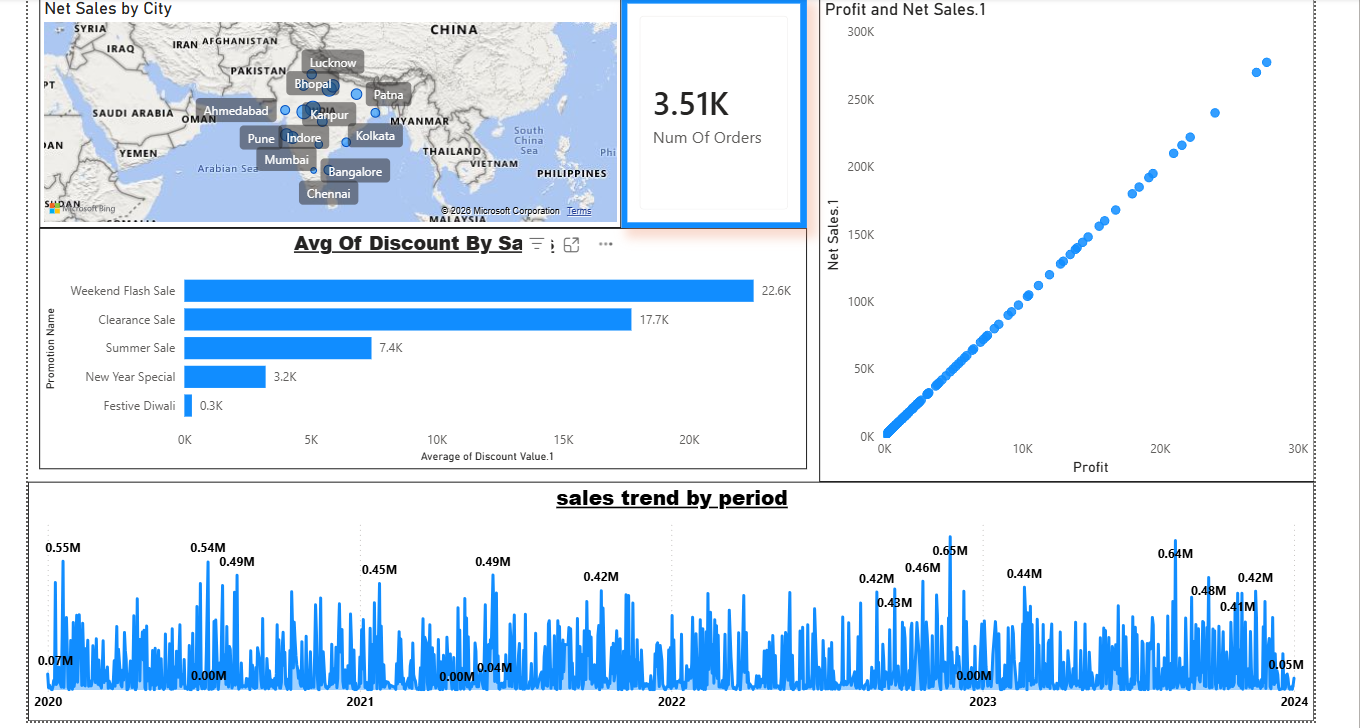

What the dashboard file says about the page in this screenshot:
{"tool":"powerbi","page":{"name":"Overview","canvas":[1280,720],"ordinal":1},"visuals":[{"type":"areaChart","title":"sales trend by period","fields":{"Category":["fact table (2).Date (dd/mm/yyyy)"],"Y":["Sum(fact table (2).Net Sales.1)"]},"box":[0,481.6,1280.3,238.8],"z":0},{"type":"scatterChart","fields":{"X":["Sum(fact table (2).Profit)"],"Y":["Sum(fact table (2).Net Sales.1)"]},"box":[787.7,0,492.6,481.6],"z":1000},{"type":"barChart","title":"Avg Of Discount By Sales","fields":{"Y":["Avg(fact table (2).Discount Value.1)"],"Category":["Dim Promotion (3).Promotion Name"]},"box":[11,229.2,764.3,240.1],"z":2000},{"type":"map","fields":{"Category":["Dim Customers (3).City"],"Size":["Sum(fact table (2).Net Sales.1)"]},"box":[11,0,579.6,228.7],"z":3000},{"type":"cardVisual","fields":{"Data":["Count(fact table (2).Order id)"]},"box":[591,0,184,229],"z":4000}]}

Visuals, with their boxes in screenshot pixels (x1, y1, x2, y2):
"sales trend by period" areaChart: <region>32, 478, 1311, 716</region>
scatterChart - Sum(fact table (2).Profit) x Sum(fact table (2).Net Sales.1): <region>819, 0, 1311, 478</region>
"Avg Of Discount By Sales" barChart: <region>43, 225, 807, 465</region>
map - Dim Customers (3).City x Sum(fact table (2).Net Sales.1): <region>43, 0, 622, 225</region>
cardVisual - Count(fact table (2).Order id): <region>622, 0, 806, 225</region>
